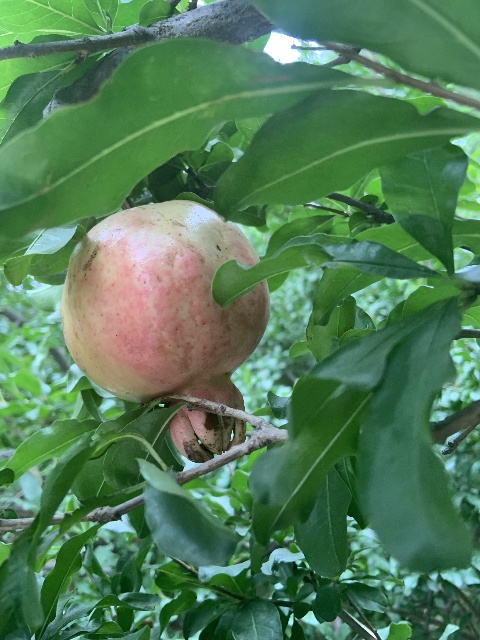ripe: (60, 200, 269, 463)
